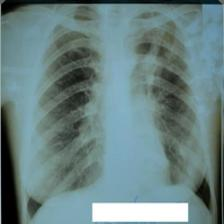tuberculosis: (21, 3, 214, 223)
